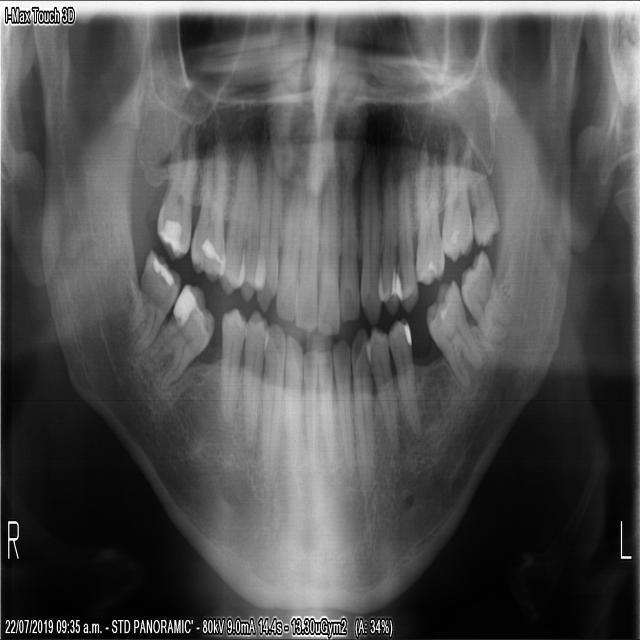LCD: (363, 326, 400, 462), (347, 325, 374, 489)
LCU: (357, 157, 383, 328)
LID: (329, 337, 353, 482), (314, 345, 335, 478)
LIU: (314, 170, 339, 339), (336, 166, 359, 325)
LMD: (422, 274, 482, 391), (458, 248, 513, 342)
LMU: (438, 132, 473, 265), (413, 147, 444, 288), (469, 168, 500, 248)
RCD: (259, 319, 284, 478)
RCU: (250, 143, 281, 315)
RID: (282, 331, 302, 480), (300, 348, 317, 484)
RIU: (273, 169, 303, 324), (292, 169, 319, 335)
RMD: (143, 284, 213, 389), (121, 246, 181, 352)
RMU: (153, 128, 197, 262), (188, 141, 229, 282)
RPMD: (241, 308, 268, 453), (219, 301, 245, 428)
RPMU: (214, 151, 245, 299), (236, 149, 264, 305), (375, 158, 401, 320), (393, 157, 418, 316)
